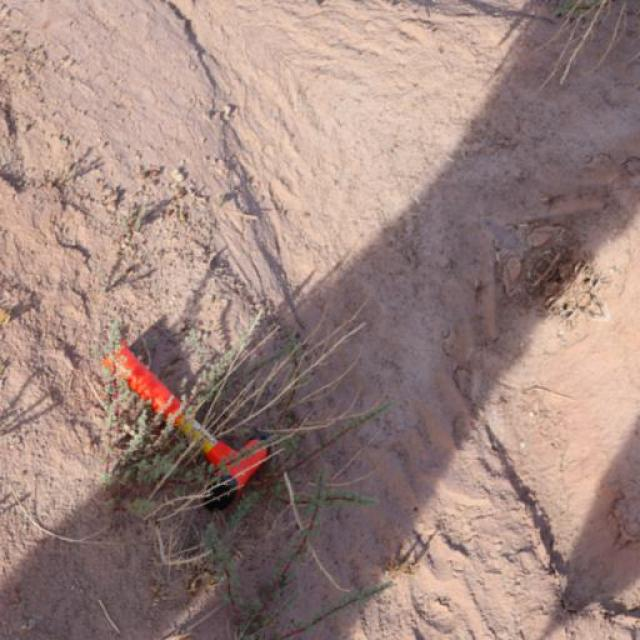mallet: (99, 338, 270, 508)
